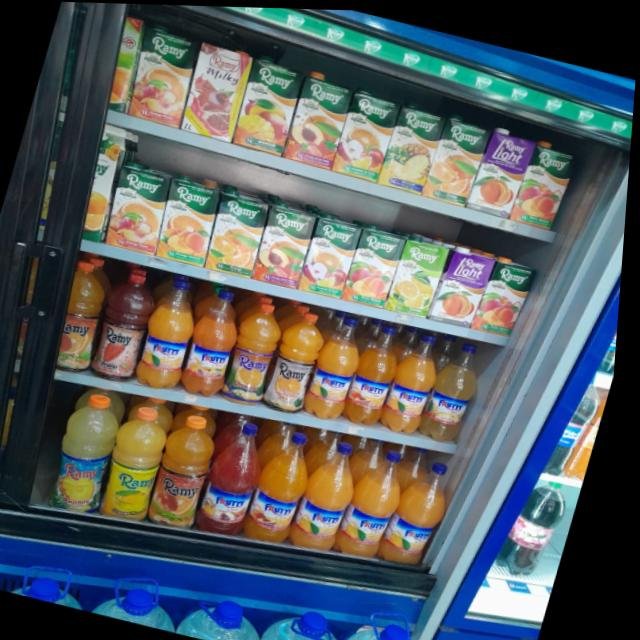miranda_plastique: (502, 467, 580, 581)
ramy_carton: (124, 22, 205, 127), (176, 38, 255, 141), (229, 53, 308, 153), (280, 69, 357, 169), (77, 123, 138, 245), (152, 169, 226, 266), (101, 158, 174, 254), (467, 121, 540, 216), (201, 184, 274, 279), (331, 84, 402, 180), (424, 110, 493, 206), (378, 98, 447, 193), (252, 197, 322, 290), (513, 135, 581, 228), (431, 239, 501, 329), (299, 210, 367, 299), (387, 230, 454, 320), (345, 221, 411, 310), (474, 253, 540, 340), (100, 12, 152, 114)
ramy_plastique: (49, 385, 136, 520), (99, 396, 184, 527), (148, 406, 232, 535), (247, 421, 329, 549), (199, 414, 280, 541), (339, 438, 421, 563), (294, 430, 375, 556), (90, 261, 168, 387), (385, 450, 465, 570), (135, 273, 212, 394), (180, 283, 254, 402), (222, 292, 294, 410), (52, 256, 122, 377), (423, 339, 502, 446), (266, 302, 338, 416), (305, 311, 375, 423), (385, 328, 453, 435), (346, 319, 413, 427)
